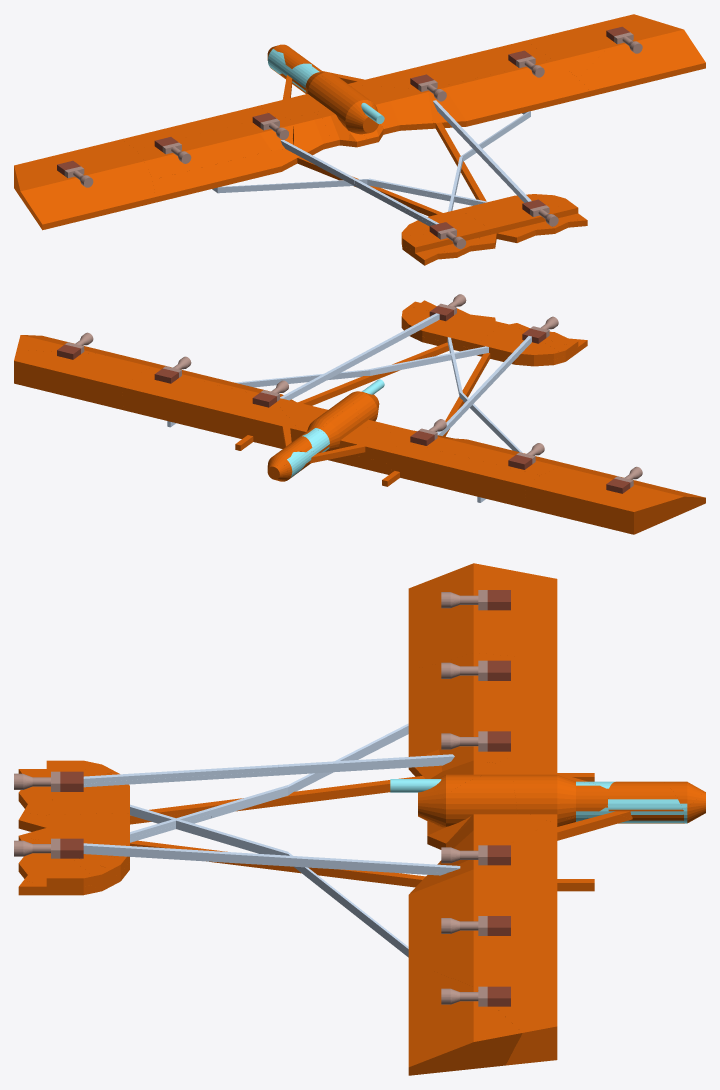
The model's file is Boss1Debris.dae.
3 renders of one model, top to bottom at view 1: azimuth 30°, elevation 25°; view 2: azimuth 150°, elevation 25°; view 3: azimuth 270°, elevation 25°, orthographic. The views are drawn at different scales.
Parts seen in each view (by area): view 1: Cube.004_cell.013, Cube.004_cell.009, Cube.004_cell.007, Cube.004_cell.005, Cube.004_cell.014, Cube.004_cell.012, Cube.004_cell, Cube.004_cell.006, Cube.004_cell.003, Cube.010_cell.003, Cube.003_cell, Cube.004_cell.004 (+23 smaller); view 2: Cube.004_cell.012, Cube.004_cell.013, Cube.004_cell, Cube.004_cell.003, Cube.004_cell.005, Cube.010_cell.003, Cube.010_cell.012, Cube.004_cell.010, Cube.004_cell.007, Cube.002_cell.002, Cube.004_cell.006, Cylinder.008_cell.008 (+22 smaller); view 3: Cube.004_cell.013, Cube.004_cell.007, Cube.004_cell, Cube.004_cell.012, Cube.004_cell.009, Cube.004_cell.005, Cube.004_cell.003, Cylinder.008_cell.001, Cube.004_cell.014, Cube.004_cell.006, Cylinder.008_cell.003, Cube.010_cell.003 (+24 smaller).
Part boxes in pixels (left/top/right/bottom): Cube.004_cell.013: left=14, top=139, right=155, bottom=230; Cube.004_cell.009: left=428, top=59, right=590, bottom=128; Cube.004_cell.007: left=578, top=20, right=705, bottom=96; Cube.004_cell.005: left=136, top=116, right=293, bottom=179; Cube.004_cell.014: left=152, top=149, right=299, bottom=202; Cube.004_cell.012: left=351, top=40, right=551, bottom=88; Cube.004_cell: left=526, top=14, right=654, bottom=78; Cube.004_cell.006: left=352, top=84, right=433, bottom=131; Cube.004_cell.003: left=122, top=106, right=267, bottom=149; Cube.010_cell.003: left=460, top=195, right=530, bottom=234; Cube.003_cell: left=212, top=178, right=427, bottom=196; Cube.004_cell.004: left=290, top=112, right=331, bottom=155; Cube.004_cell.012: left=121, top=368, right=298, bottom=448; Cube.004_cell.013: left=524, top=466, right=705, bottom=534; Cube.004_cell: left=14, top=350, right=152, bottom=410; Cube.004_cell.003: left=389, top=442, right=539, bottom=507; Cube.004_cell.005: left=399, top=430, right=573, bottom=475; Cube.010_cell.003: left=416, top=314, right=502, bottom=348; Cube.010_cell.012: left=477, top=323, right=543, bottom=366; Cube.004_cell.010: left=296, top=426, right=402, bottom=463; Cube.004_cell.007: left=16, top=335, right=157, bottom=364; Cube.002_cell.002: left=359, top=346, right=486, bottom=376; Cube.004_cell.006: left=276, top=398, right=327, bottom=428; Cylinder.008_cell.008: left=320, top=410, right=359, bottom=447; Cube.004_cell.013: left=408, top=563, right=557, bottom=669; Cube.004_cell.007: left=408, top=971, right=522, bottom=1075; Cube.004_cell: left=434, top=948, right=557, bottom=1065; Cube.004_cell.012: left=480, top=822, right=557, bottom=948; Cube.004_cell.009: left=408, top=860, right=480, bottom=983; Cube.004_cell.005: left=439, top=652, right=515, bottom=771; Cube.004_cell.003: left=515, top=656, right=557, bottom=755; Cylinder.008_cell.001: left=512, top=775, right=608, bottom=820; Cube.004_cell.014: left=408, top=663, right=442, bottom=778; Cube.004_cell.006: left=437, top=814, right=551, bottom=865; Cylinder.008_cell.003: left=444, top=774, right=517, bottom=816; Cube.010_cell.003: left=46, top=813, right=129, bottom=866.
Size of the model in its own units: 61 by 37.25 by 4.
